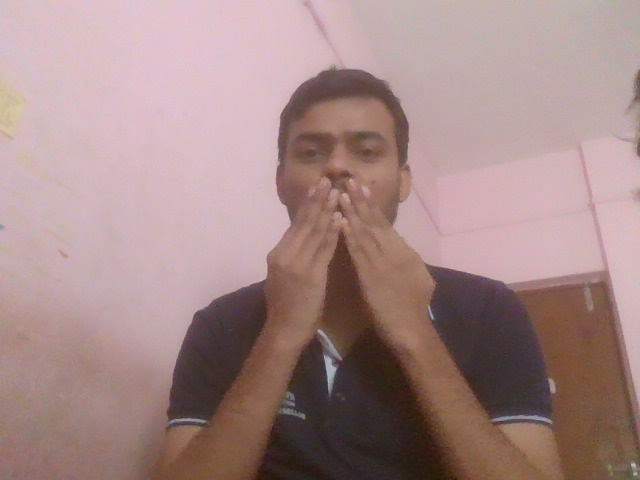ThankYou: (231, 172, 472, 358)
